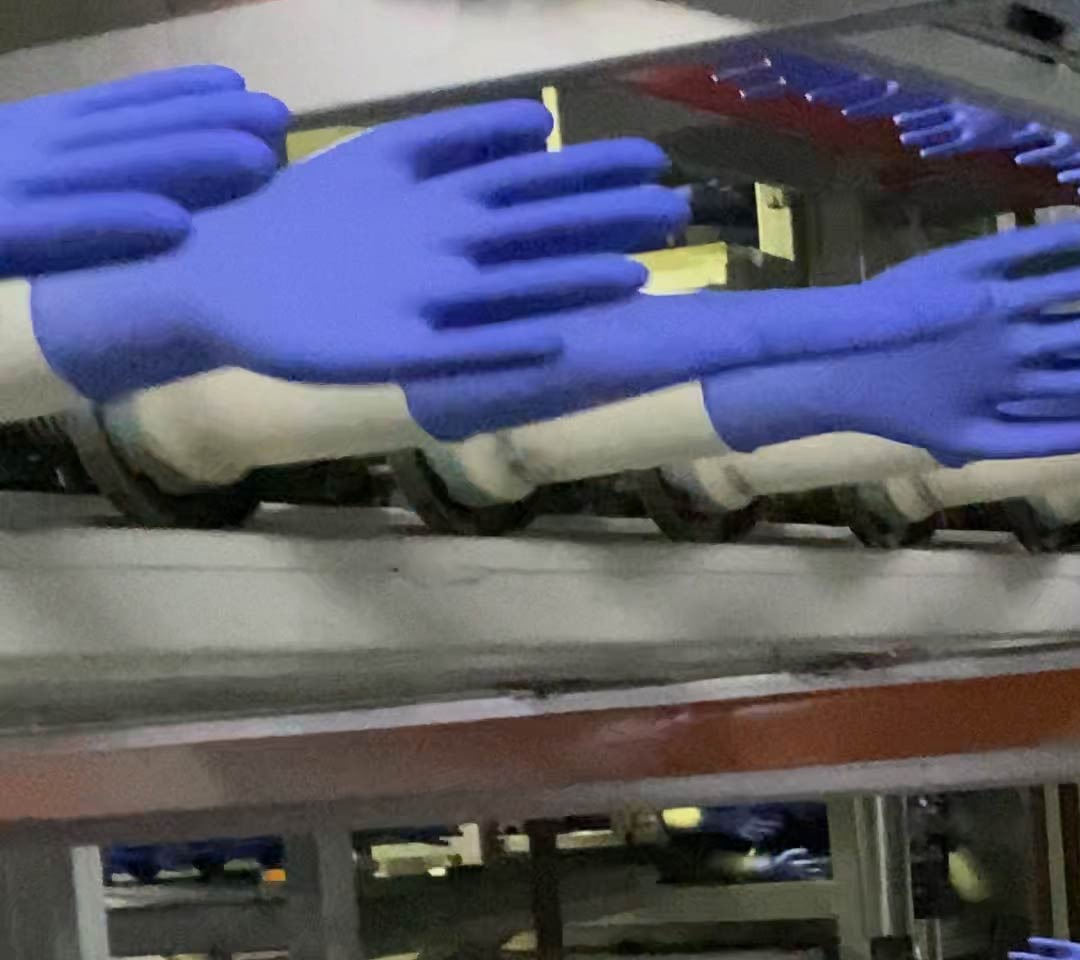glove: (51, 95, 690, 369), (1, 60, 289, 278)
